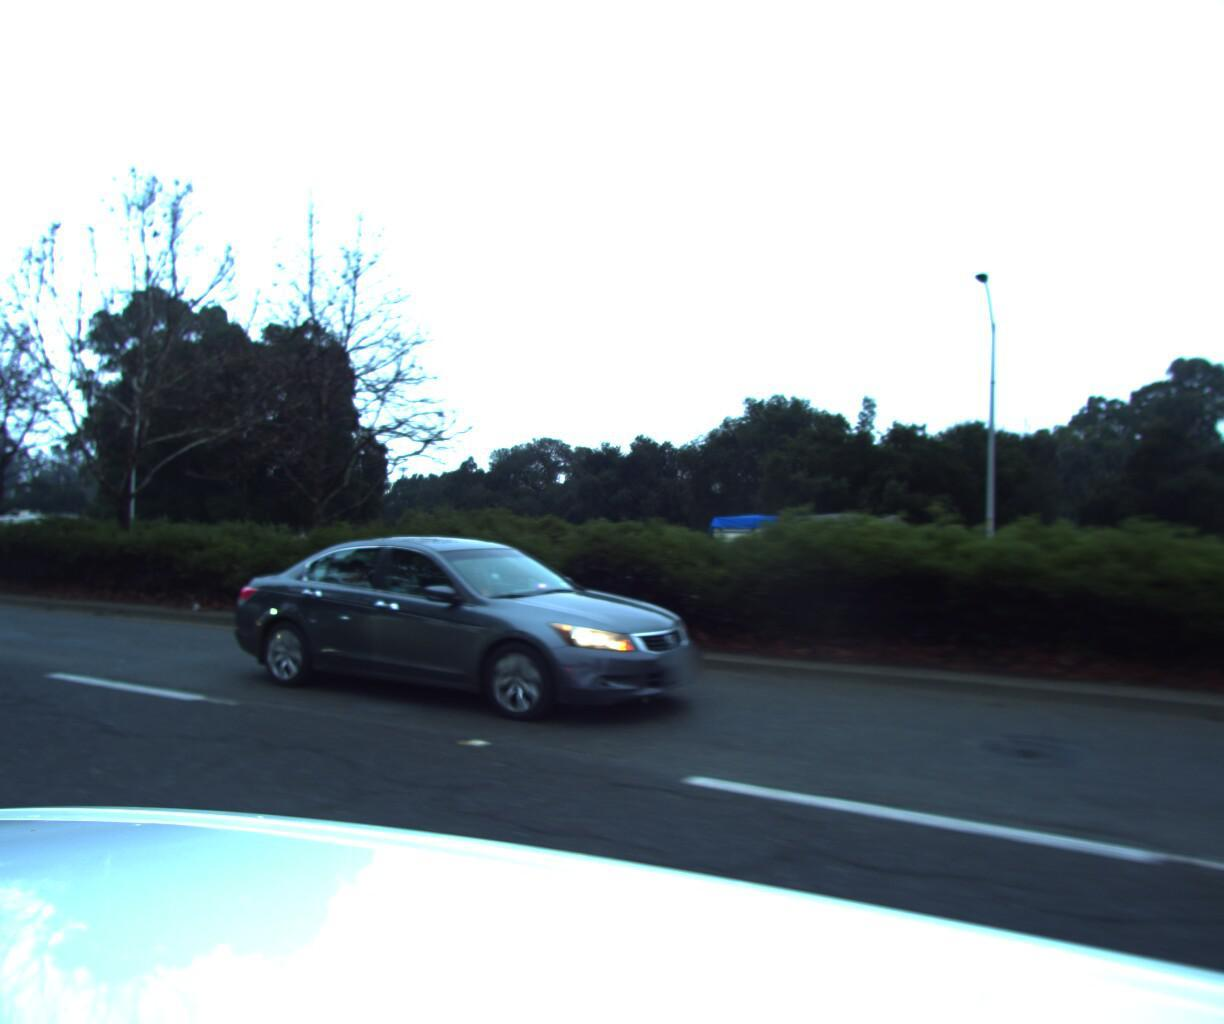car: (205, 533, 716, 736)
other_vehicle: (692, 504, 918, 601)
